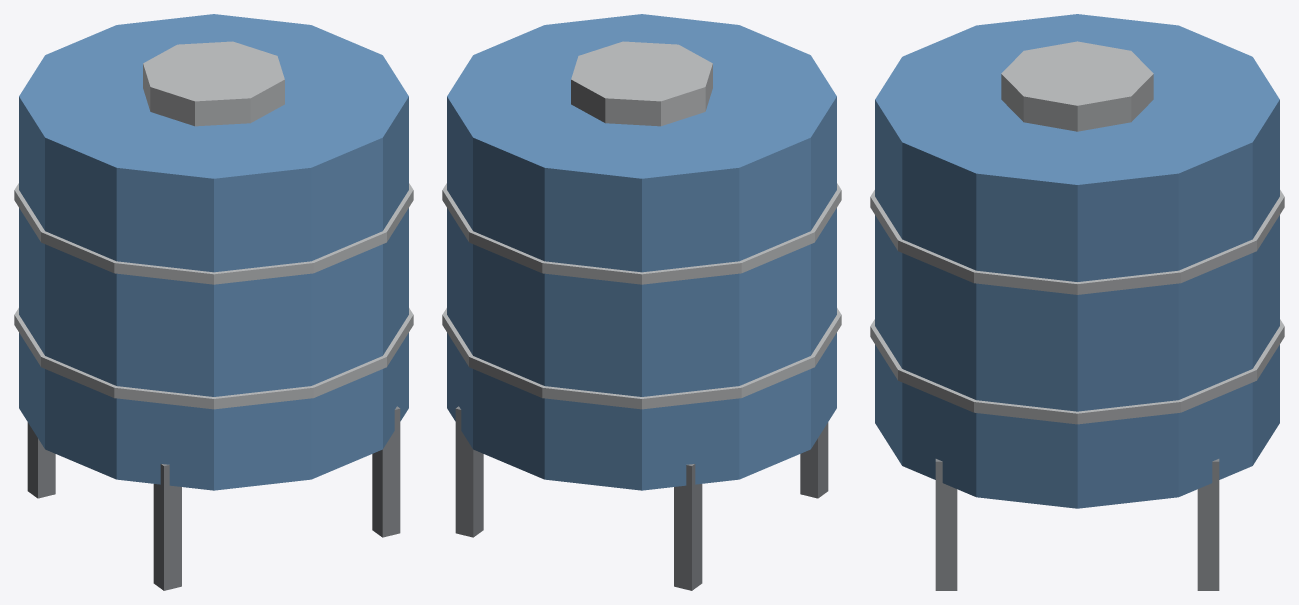
File: 17_street_props-01.glb
3 renders of one model, left to right at view 1: azimuth 30°, elevation 25°; view 2: azimuth 150°, elevation 25°; view 3: azimuth 270°, elevation 25°, orthographic. The views are drawn at different scales.
Bounding box in the file's own units: 1.74 × 2.12 × 1.74.
